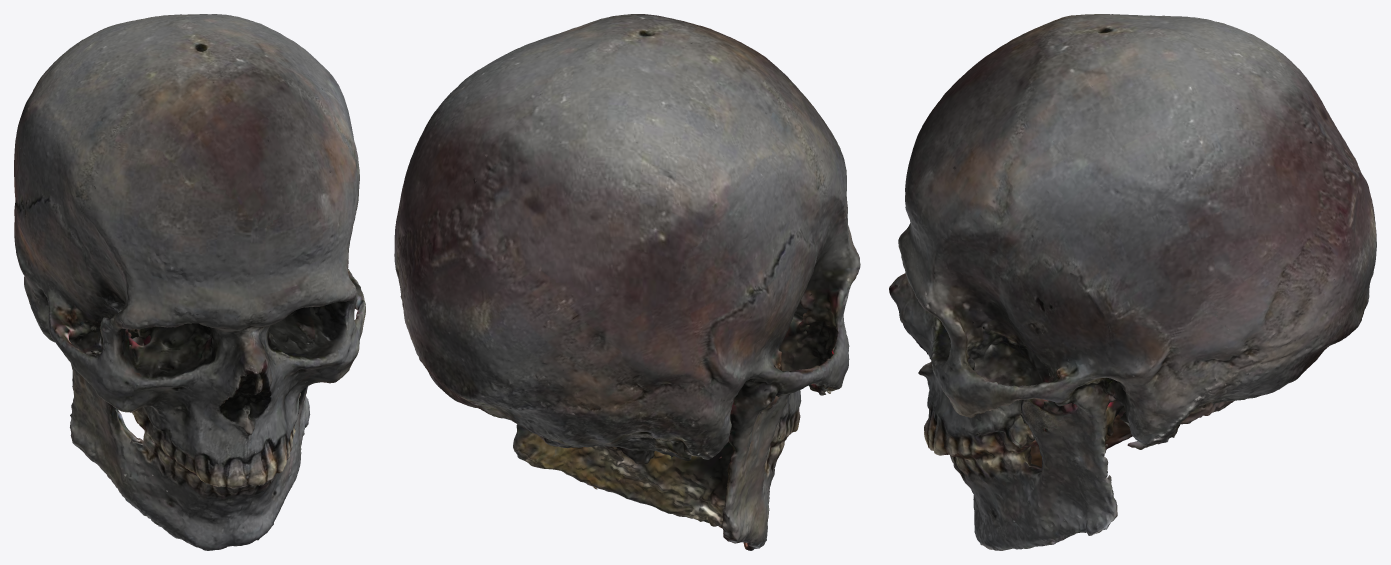
The model's file is preview.glb.
3 views of the same model, side by side, from view 1: azimuth 30°, elevation 25°; view 2: azimuth 150°, elevation 25°; view 3: azimuth 270°, elevation 25° (orthographic). The views are drawn at different scales.
Parts seen in each view (by area): view 1: Skull_joined.001_glb; view 2: Skull_joined.001_glb; view 3: Skull_joined.001_glb.
Part boxes in pixels (x1,y1,x2,y2): Skull_joined.001_glb: (14,14,365,550); Skull_joined.001_glb: (394,14,860,550); Skull_joined.001_glb: (889,14,1376,550).
Bounding box in the file's own units: 1.91 × 2.74 × 2.33.
Materials: 1 (1 with a texture image).
